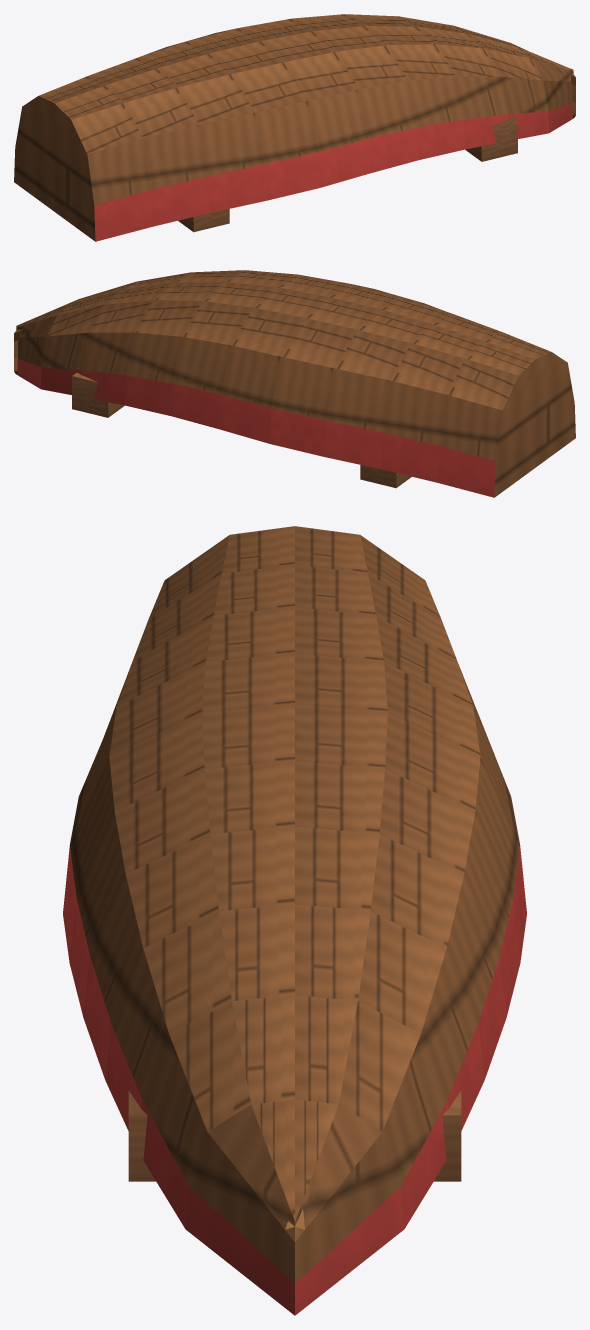
Rendered from boat_upturned_01.glb.
3 views of the same model, one above another, from view 1: azimuth 30°, elevation 25°; view 2: azimuth 150°, elevation 25°; view 3: azimuth 270°, elevation 25° (orthographic). The views are drawn at different scales.
Visible parts, largest first — view 1: boat_upturned_01; view 2: boat_upturned_01; view 3: boat_upturned_01.
Part boxes in pixels (<box>): boat_upturned_01: <box>14,14,575,241</box>; boat_upturned_01: <box>14,270,575,497</box>; boat_upturned_01: <box>63,526,526,1315</box>.
Size of the model in its own units: 3.6 by 1.02 by 1.4.
1 material, 1 textured.
